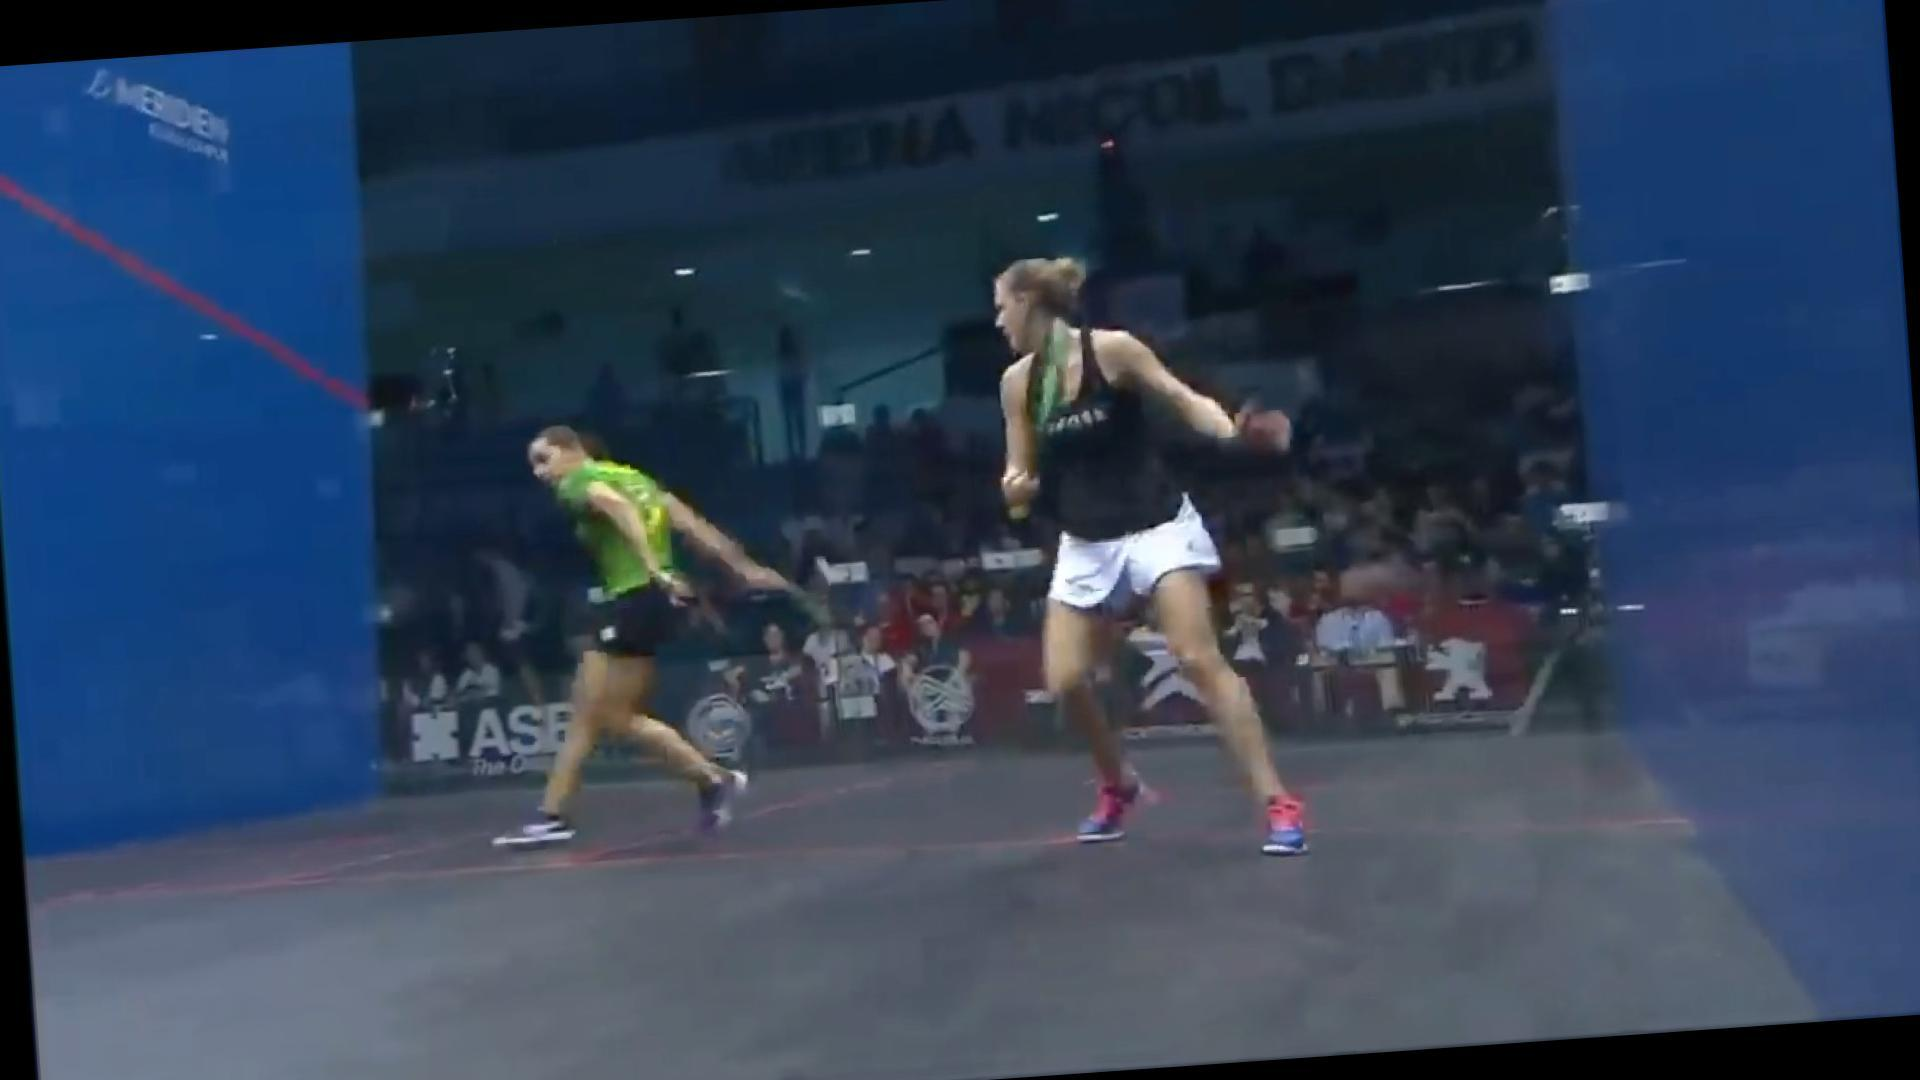Squash-Ball: (794, 534, 839, 593)
